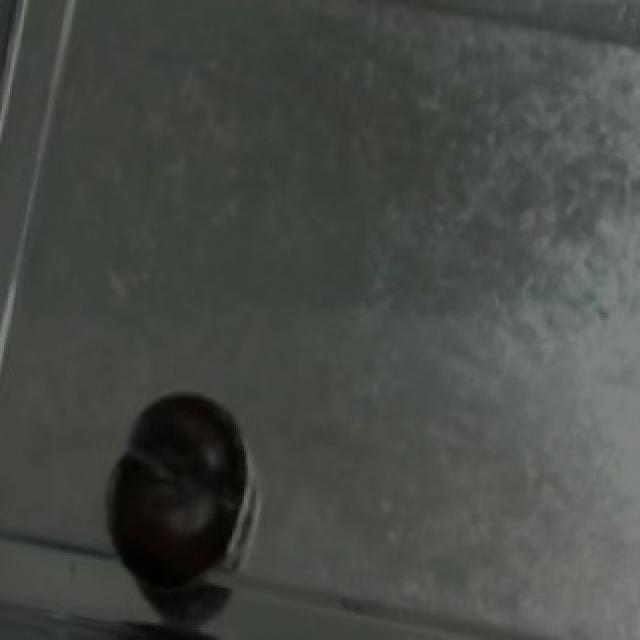Fruit: (100, 456, 242, 603)
